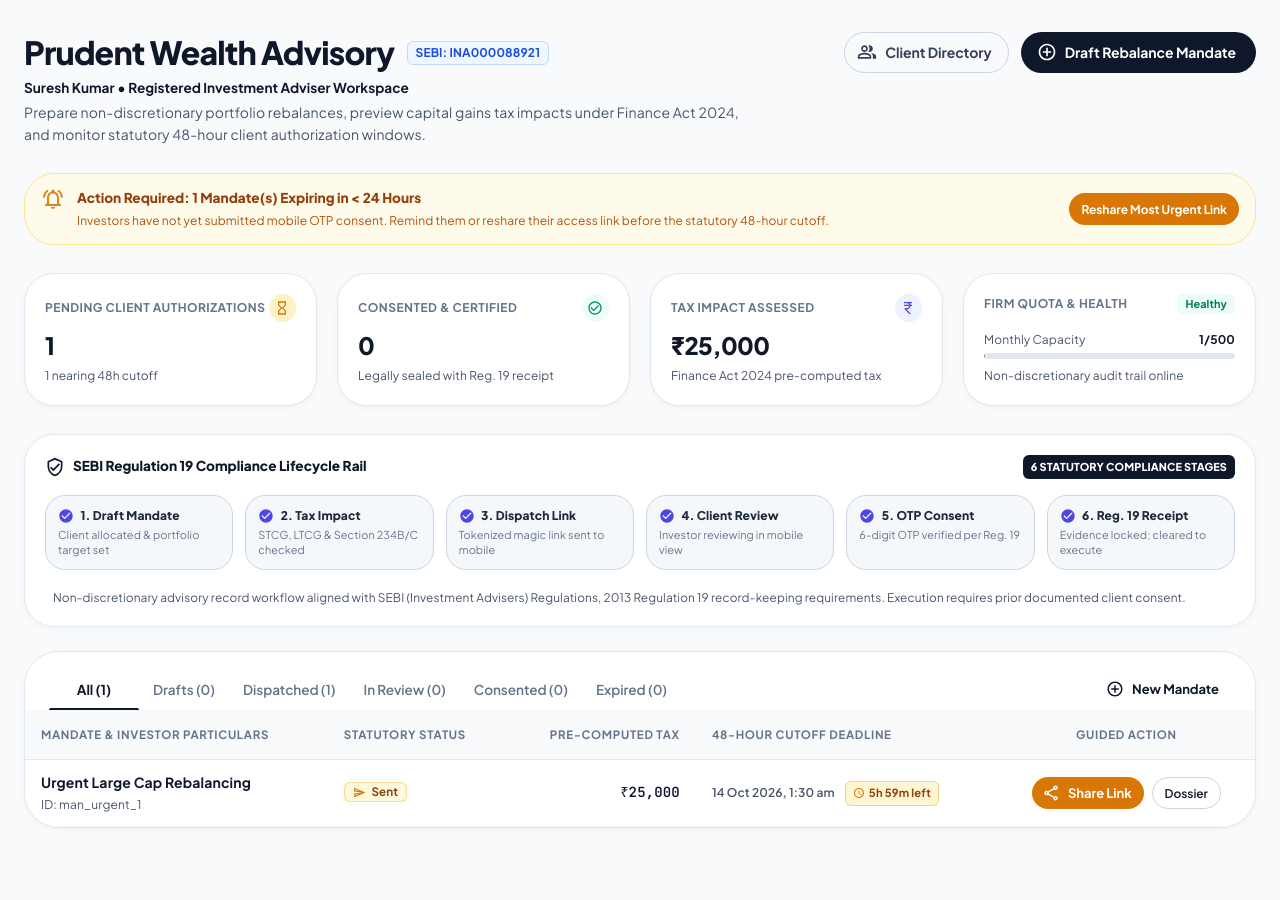
Reshare & Remind Button Actions, Modal Hook Safety & Error Boundary Suite › 2. RiaDashboard Action Buttons ("Reshare most urgent links" & "Remind Client") › 2.1: Clicking "Reshare Most Urgent Link" opens the modal cleanly without blank screen or crash
This screenshot has width=1280, height=900.
Click the button "Reshare Most Urgent Link" at (1154, 209), box x1=1069 y1=193 x2=1239 y2=225
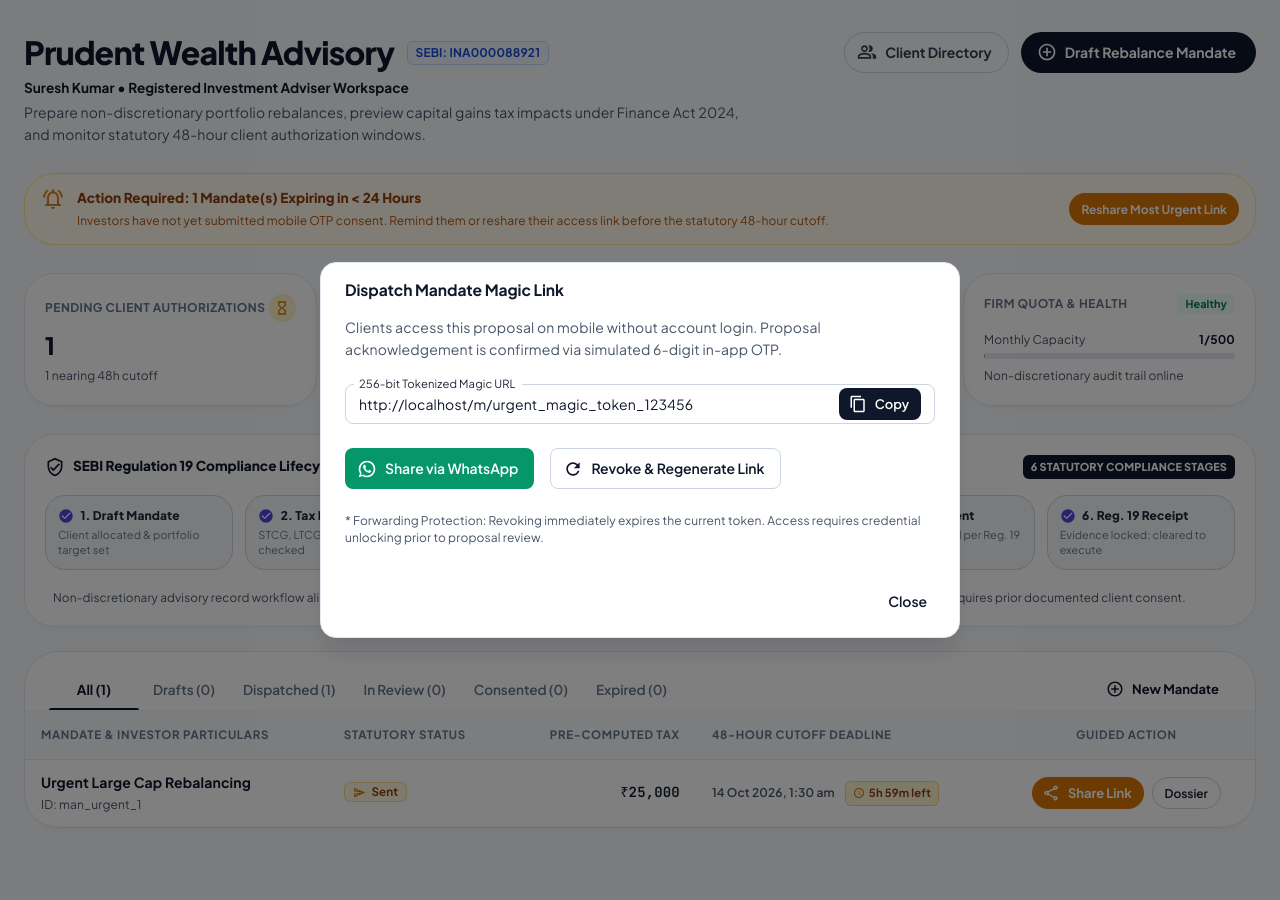
Now the heading "Dispatch Mandate Magic Link" is shown, box x1=345 y1=280 x2=564 y2=299
Now the field showing "urgent_magic_token_123456" is shown, box x1=345 y1=384 x2=831 y2=424
